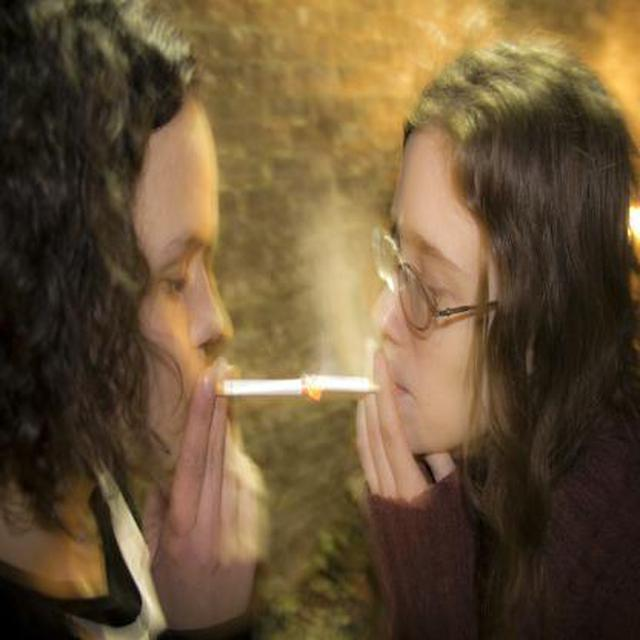smoking: (303, 364, 401, 406), (202, 366, 306, 401)
